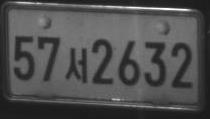2: (90, 38, 114, 85), (170, 42, 193, 88)
3: (143, 41, 166, 86)
5: (12, 36, 35, 80)
6: (118, 40, 140, 86)
7: (37, 35, 59, 82)
서: (65, 46, 87, 83)
